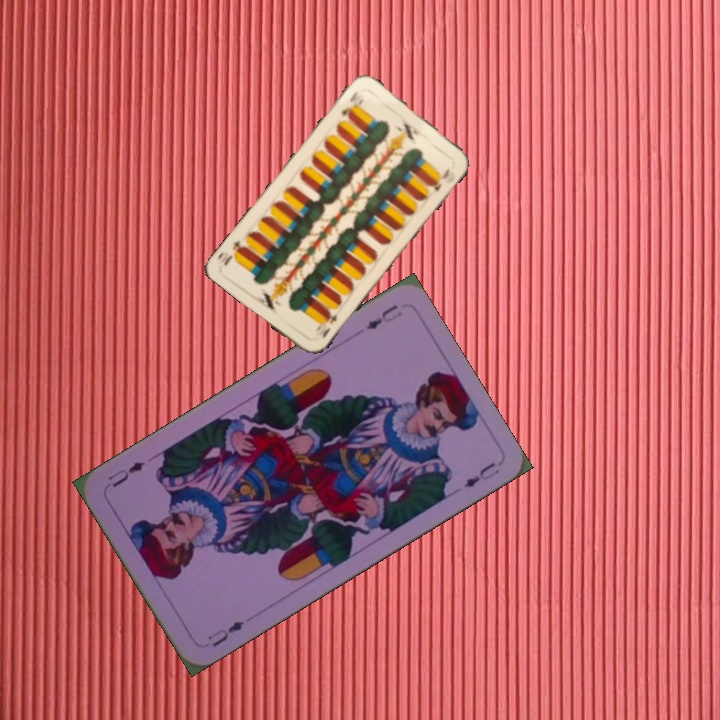E10: (312, 308, 340, 341), (337, 87, 361, 120)
EU: (203, 616, 247, 650), (361, 300, 405, 333)
